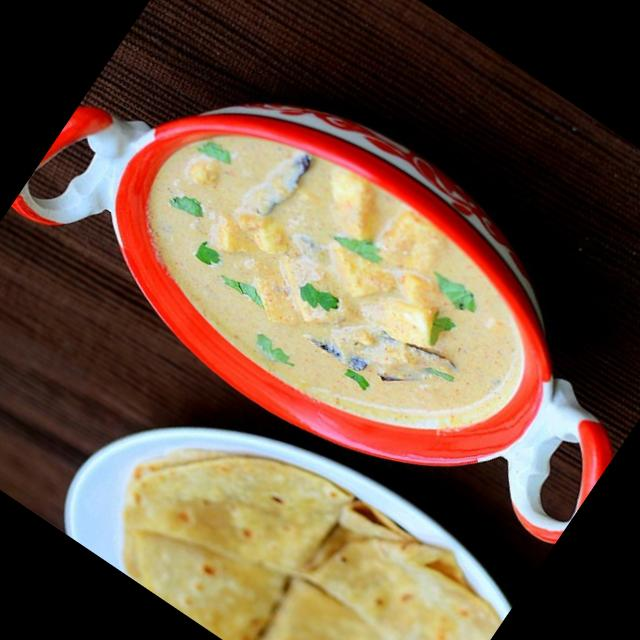ShahiPaneer: (98, 79, 569, 492)
